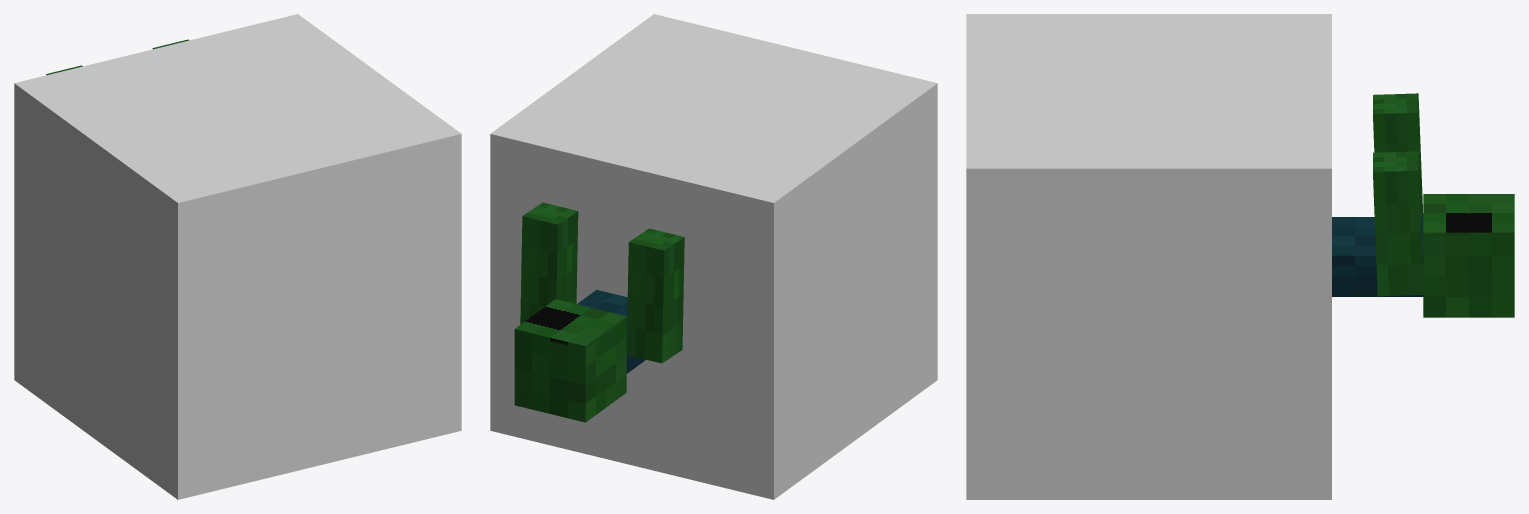
Rendered from zombie.glb.
The picture shows the model from 3 angles, left to right: view 1: azimuth 30°, elevation 25°; view 2: azimuth 150°, elevation 25°; view 3: azimuth 270°, elevation 25°; orthographic projection. The views are drawn at different scales.
Parts seen in each view (by area): view 1: Cube; view 2: Cube, head, armR, armL, face, body; view 3: Cube, head, armL, face, body, armR.
Boxes of the visible parts, x1=… form: Cube: x1=14, y1=14, x2=461, y2=499; Cube: x1=490, y1=14, x2=937, y2=499; head: x1=514, y1=320, x2=626, y2=422; armR: x1=626, y1=228, x2=684, y2=363; armL: x1=520, y1=202, x2=578, y2=324; face: x1=514, y1=299, x2=626, y2=349; body: x1=577, y1=290, x2=645, y2=373; Cube: x1=966, y1=14, x2=1331, y2=499; head: x1=1423, y1=235, x2=1514, y2=317; armL: x1=1373, y1=151, x2=1423, y2=296; face: x1=1423, y1=194, x2=1514, y2=236; body: x1=1332, y1=217, x2=1423, y2=296; armR: x1=1373, y1=93, x2=1423, y2=216.
Bounding box in the file's own units: 2 × 2 × 3.
Materials: 6 (5 with a texture image).
